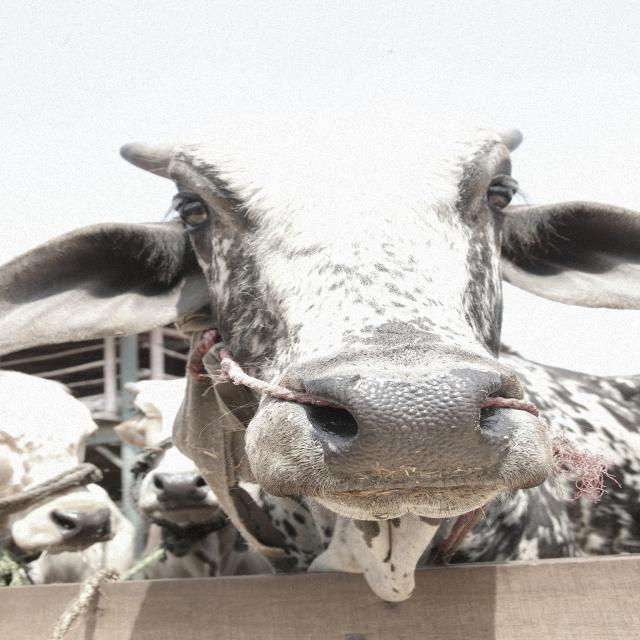muzzles: (280, 360, 534, 487), (146, 470, 217, 515), (43, 504, 118, 546)
